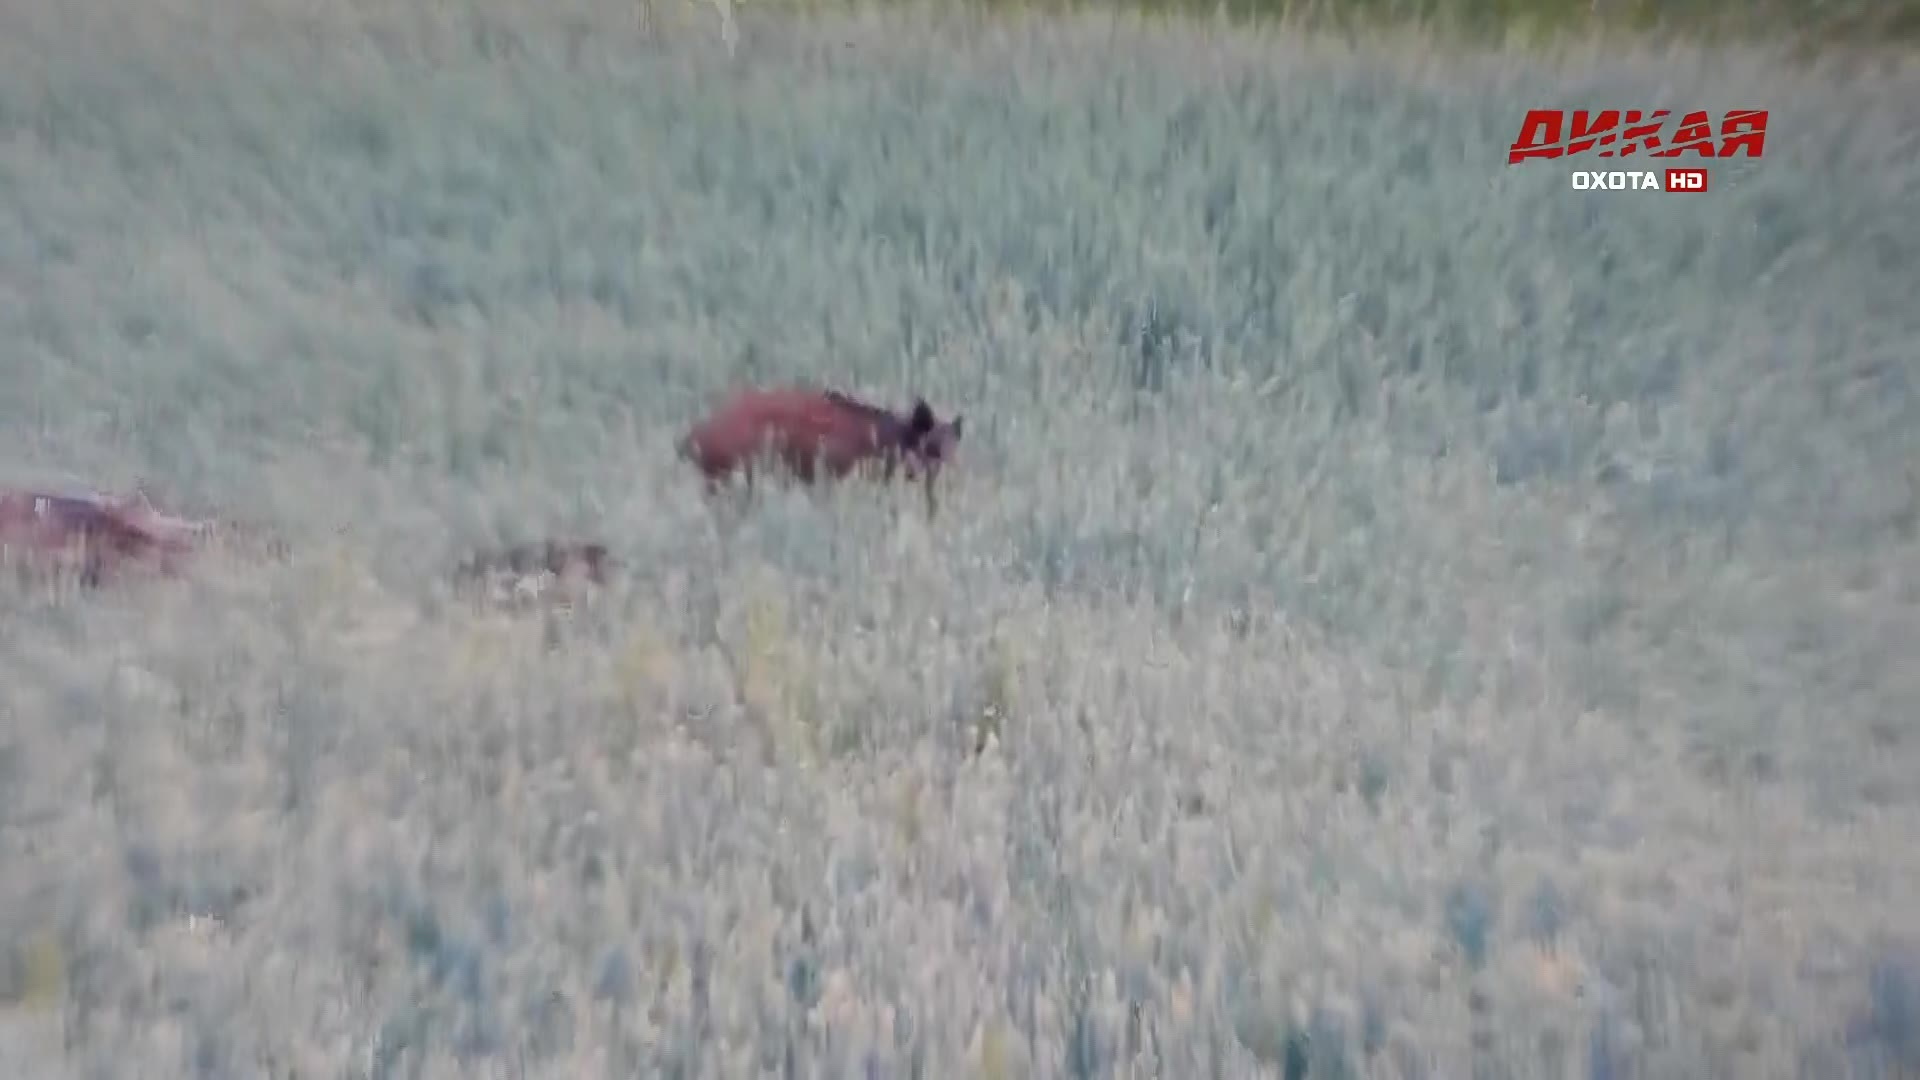Dikaya_Ohota_HD: (1505, 104, 1776, 196)
